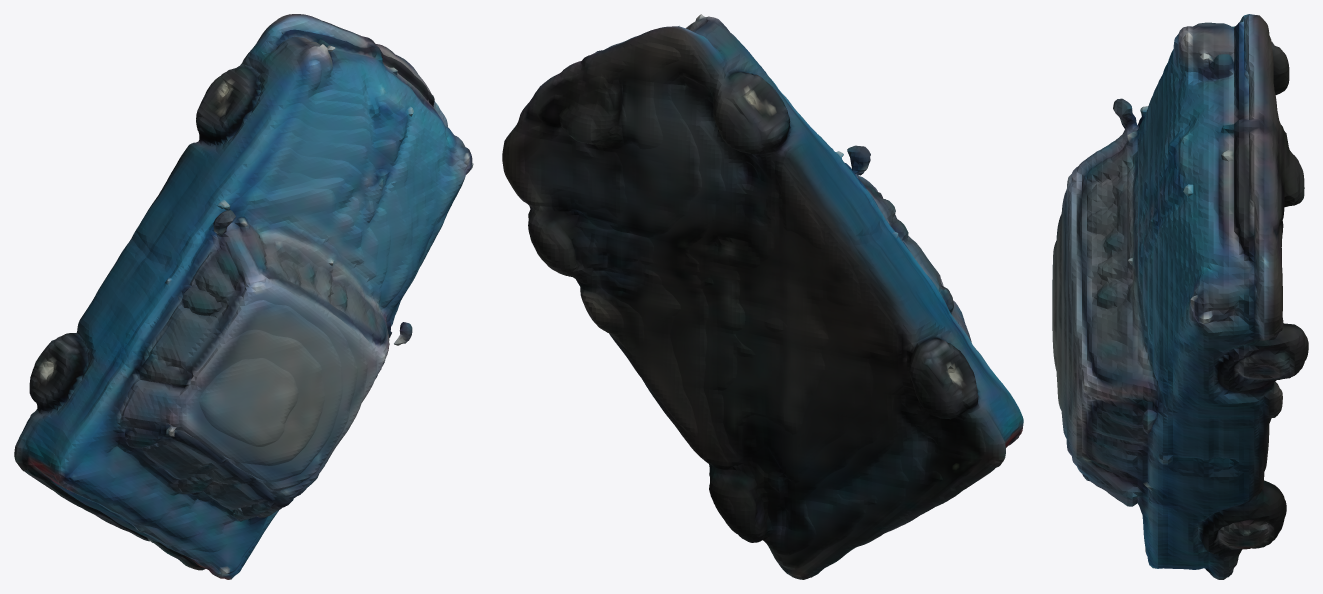
File: dsfsdf1715651995.obj
3 renders of one model, left to right at view 1: azimuth 30°, elevation 25°; view 2: azimuth 150°, elevation 25°; view 3: azimuth 270°, elevation 25°, orthographic. The views are drawn at different scales.
Bounding box in the file's own units: 0.8523 × 0.9205 × 0.3451.
